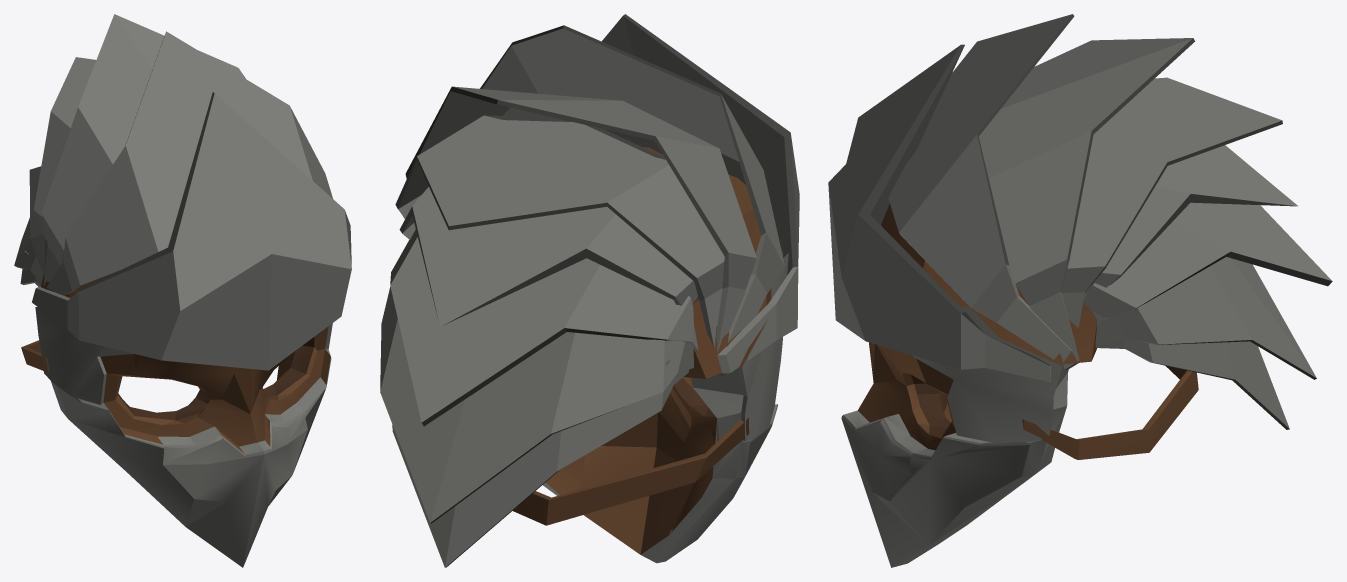
The model's file is casco de cuero .fbx.
3 views of the same model, side by side, from view 1: azimuth 30°, elevation 25°; view 2: azimuth 150°, elevation 25°; view 3: azimuth 270°, elevation 25° (orthographic). The views are drawn at different scales.
Parts seen in each view (by area): view 1: Casco; view 2: Casco; view 3: Casco.
Boxes of the visible parts, left/top/right/bottom form: Casco: left=14, top=14, right=351, bottom=567; Casco: left=380, top=14, right=799, bottom=567; Casco: left=828, top=14, right=1332, bottom=567.
Bounding box in the file's own units: 46.62 × 78.39 × 64.57.
